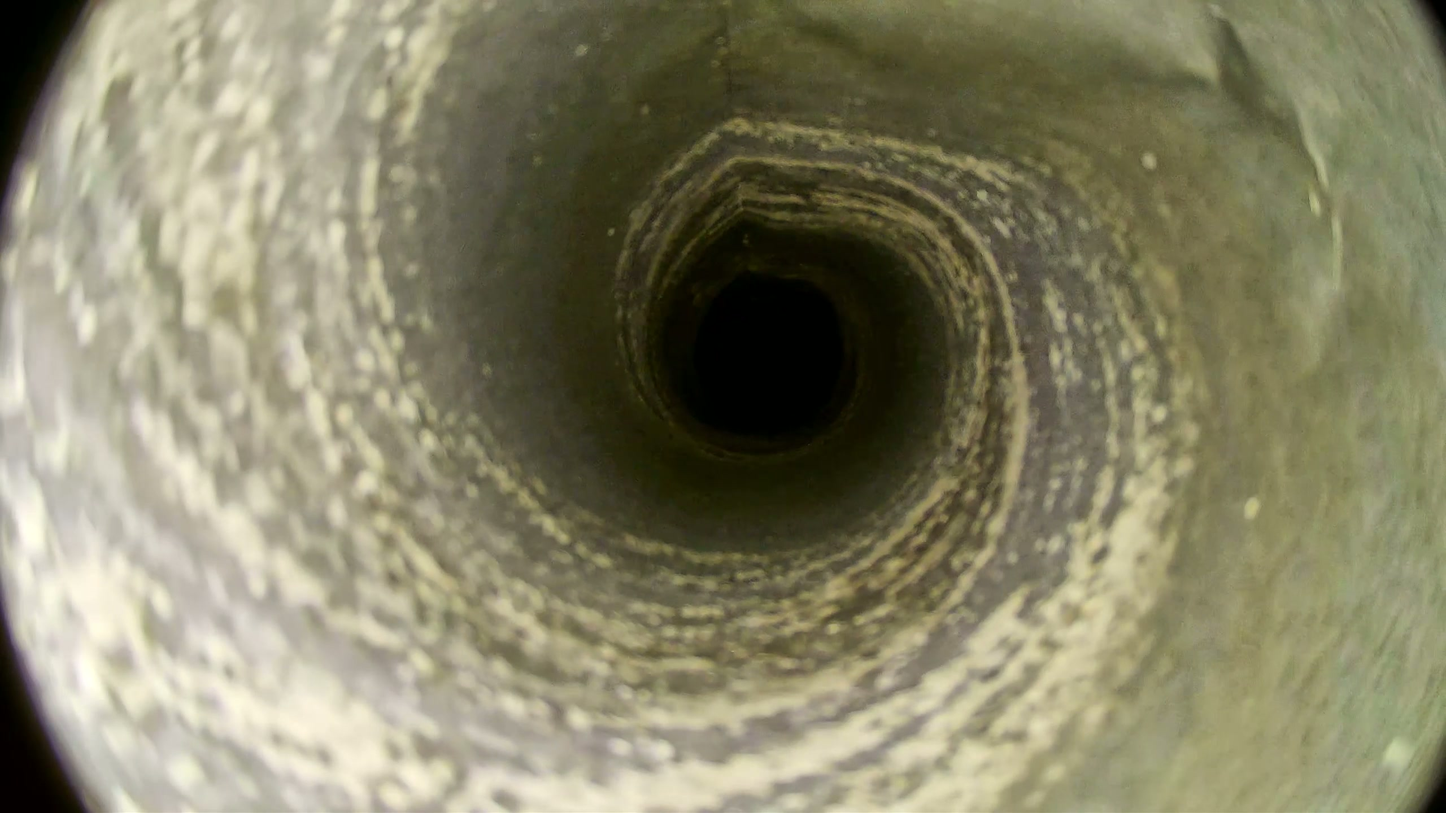hole: (695, 277, 842, 430)
